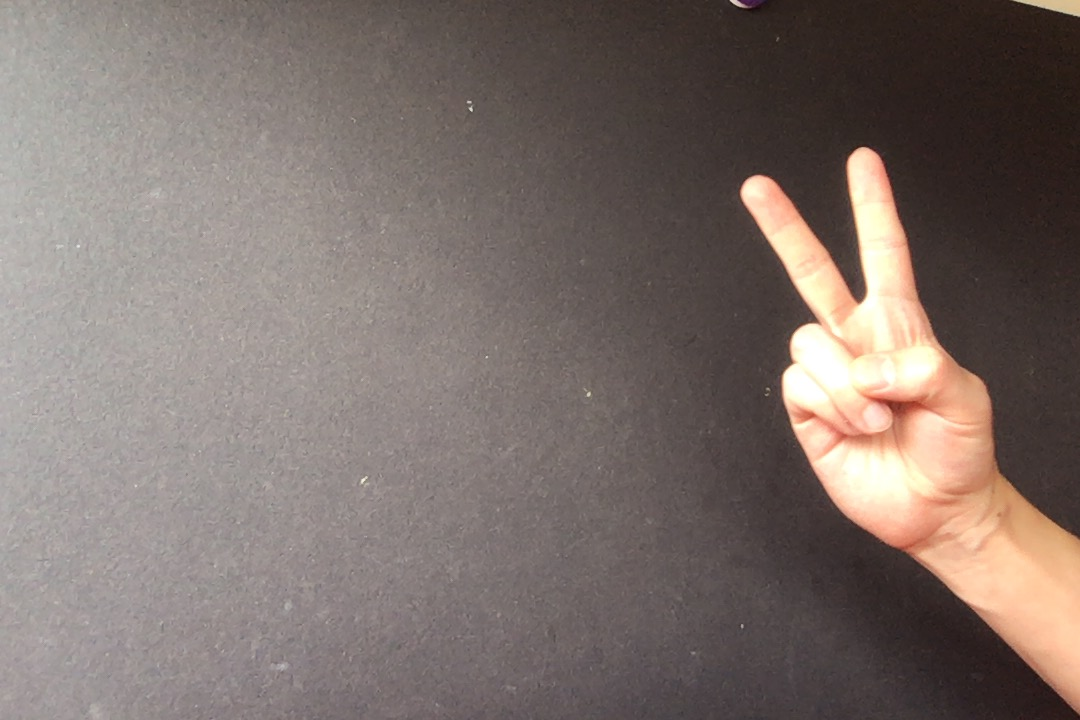peacesign: (730, 141, 1001, 560)
